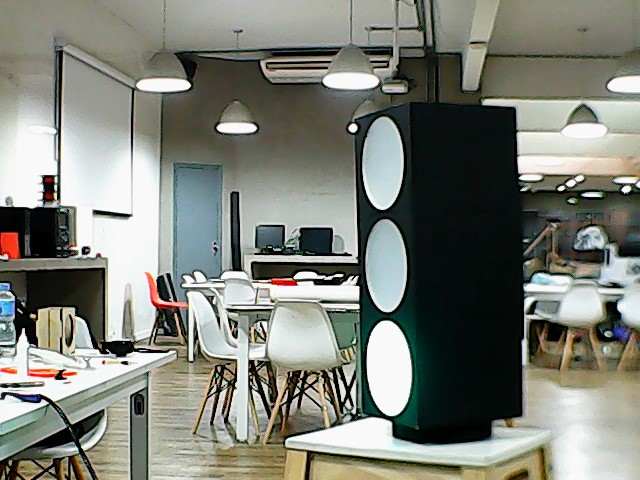verde: (341, 102, 524, 425)
